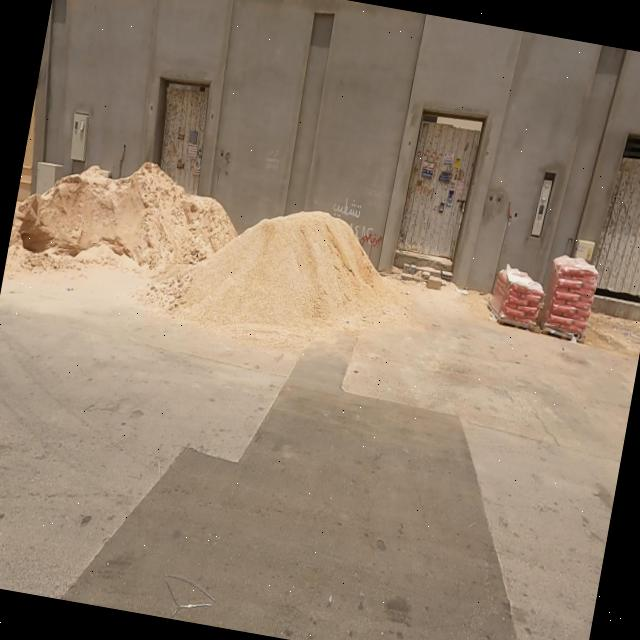Graffiti: (355, 223, 387, 252), (332, 199, 363, 225)
